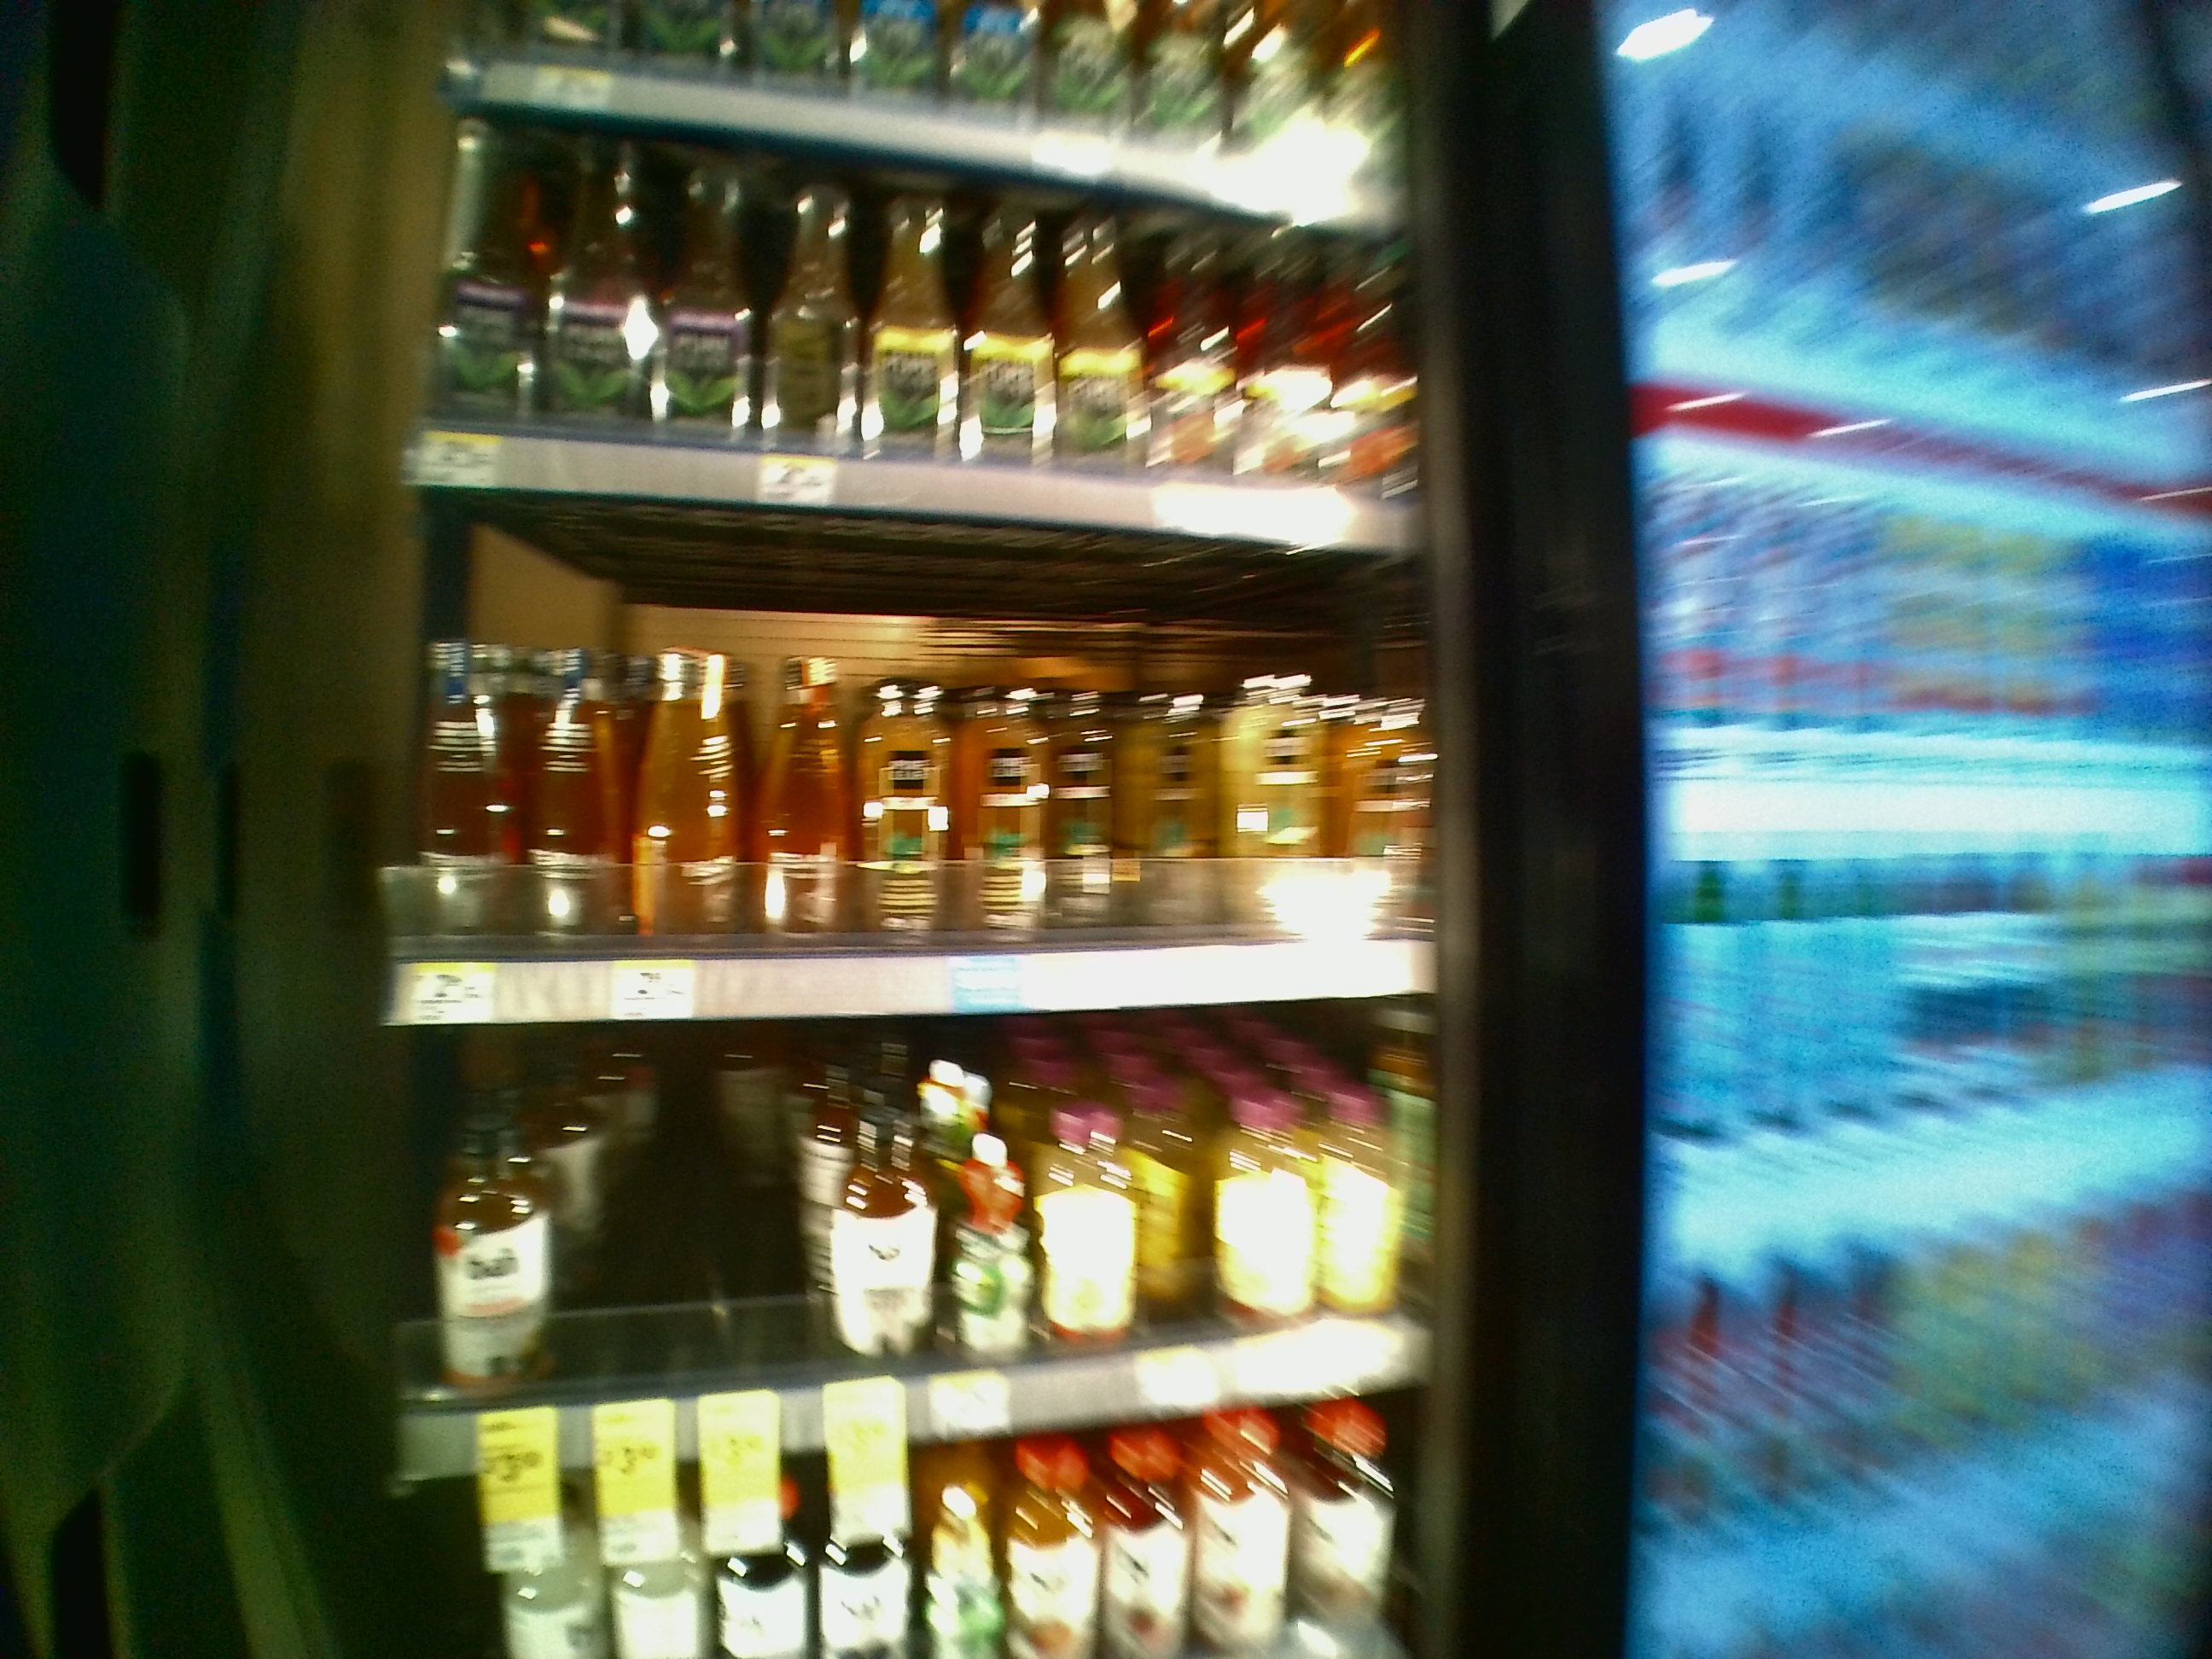shelf: (387, 502, 1435, 1018), (388, 1033, 1435, 1474), (401, 91, 1425, 490)
